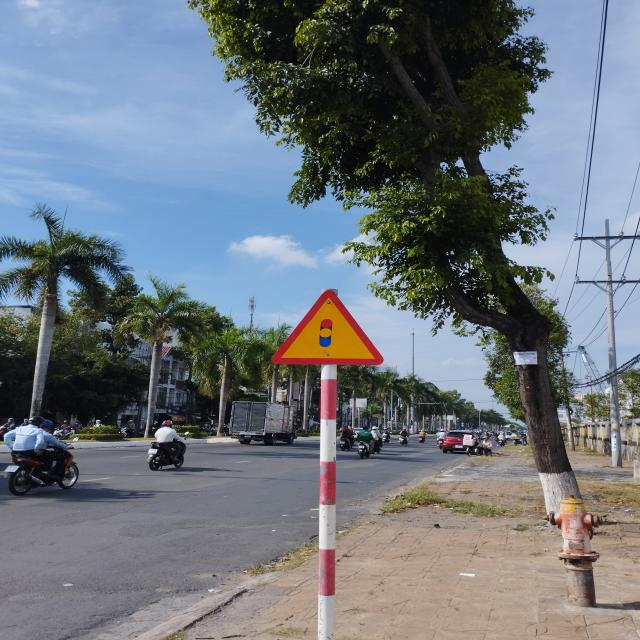Duong_Co_Go_Giam_Toc: (270, 289, 384, 364)
